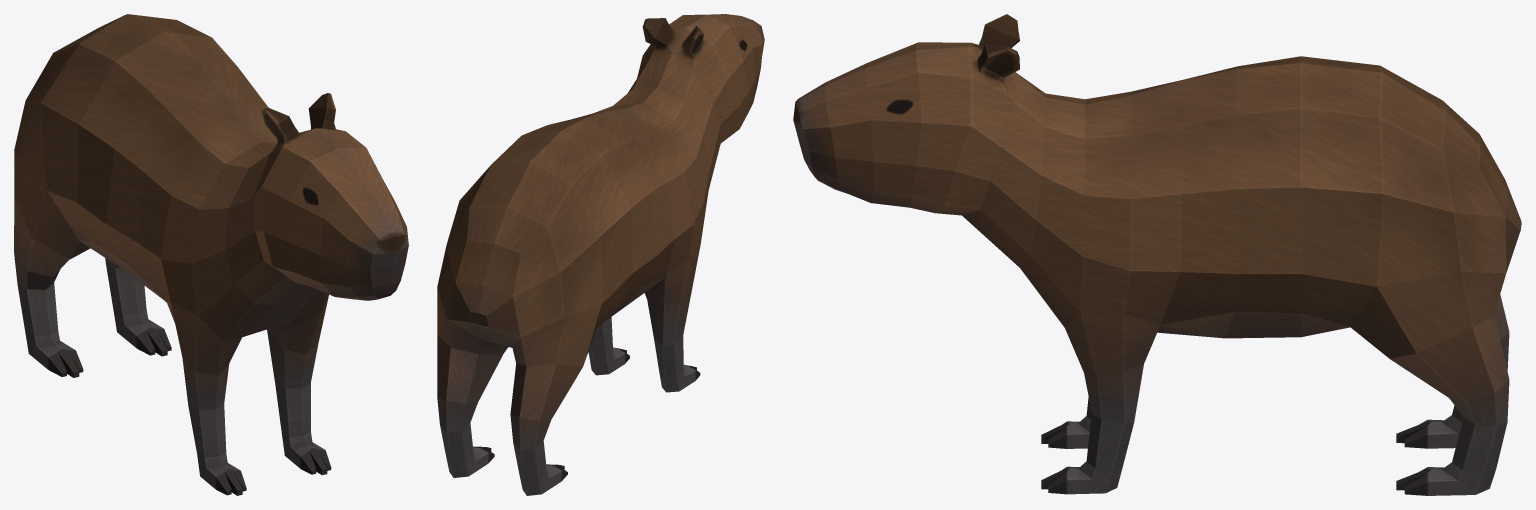
The model's file is capivara.glb.
3 renders of one model, left to right at view 1: azimuth 30°, elevation 25°; view 2: azimuth 150°, elevation 25°; view 3: azimuth 270°, elevation 25°, orthographic. The views are drawn at different scales.
Visible parts, largest first — view 1: Capybara_mesh; view 2: Capybara_mesh; view 3: Capybara_mesh.
Boxes of the visible parts, left/top/right/bottom form: Capybara_mesh: left=14, top=14, right=408, bottom=495; Capybara_mesh: left=437, top=14, right=764, bottom=495; Capybara_mesh: left=793, top=14, right=1521, bottom=495.
Bounding box in the file's own units: 2.16 × 4.72 × 7.16.
1 material, 1 textured.
